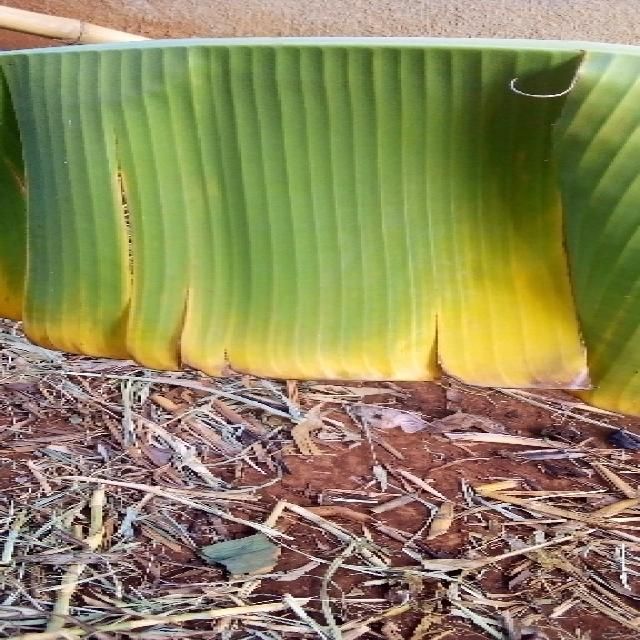Cordana: (0, 33, 640, 418)
